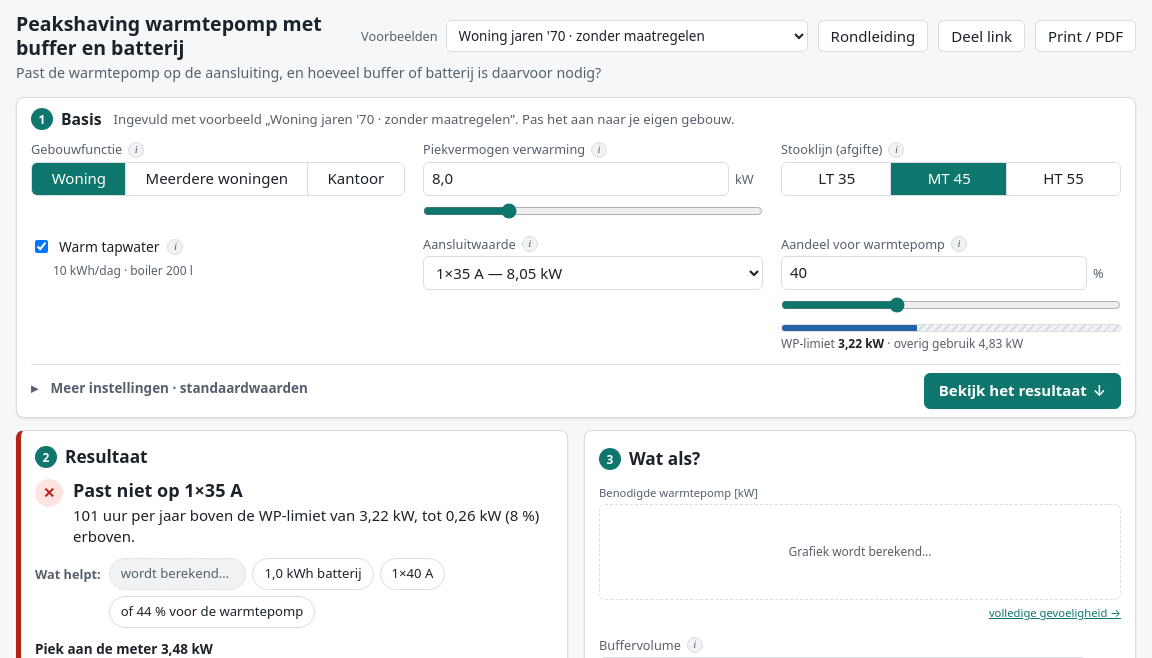
Test: Rondleiding: vanzelf starten › niet op een telefoon of tablet (zelfde mediaquery als de melding bovenaan)
Click the button "Rondleiding" at (873, 36), box x1=818 y1=20 x2=928 y2=52
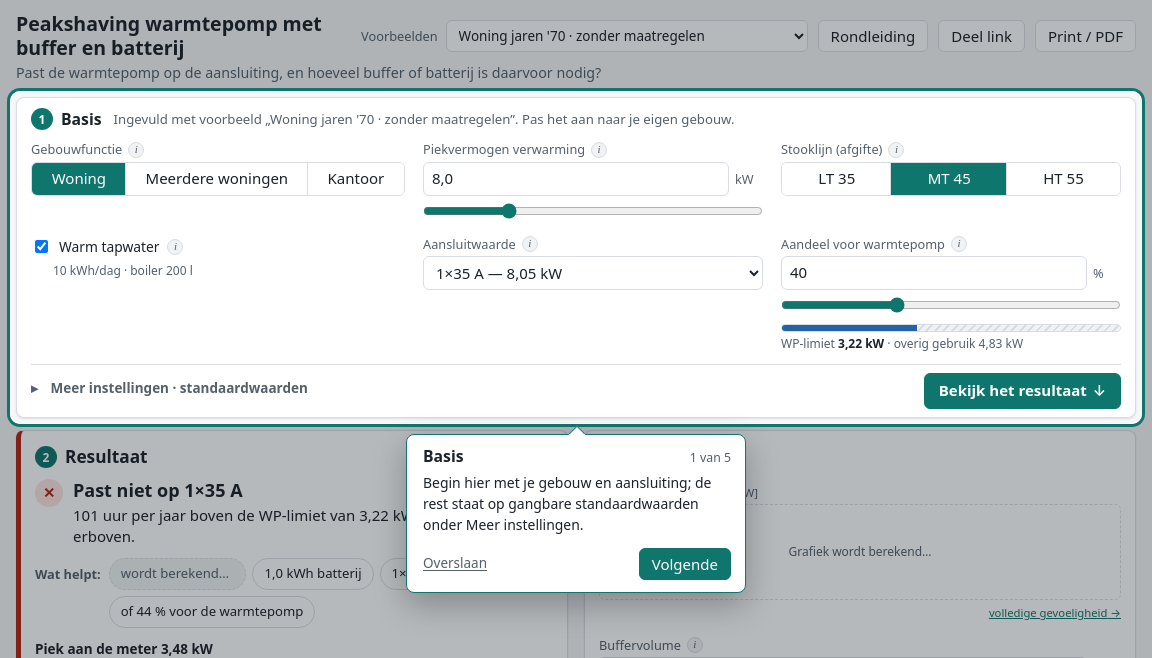
Now the dialog is shown, box x1=406 y1=434 x2=746 y2=593
